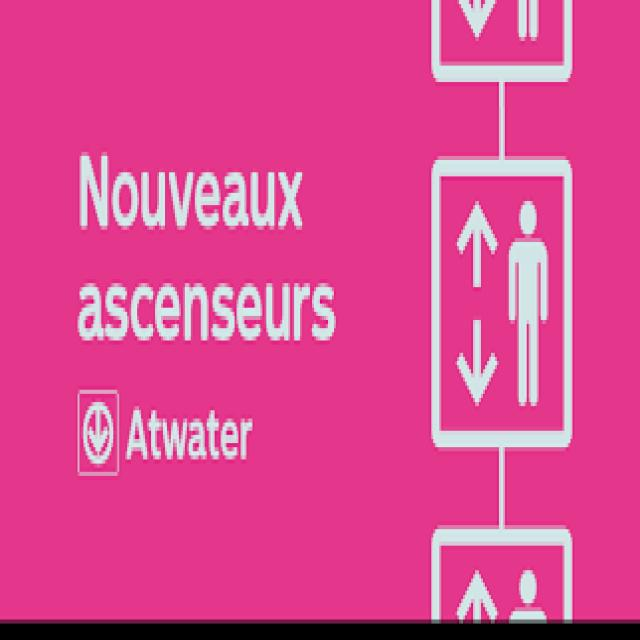elevator: (421, 142, 584, 466)
